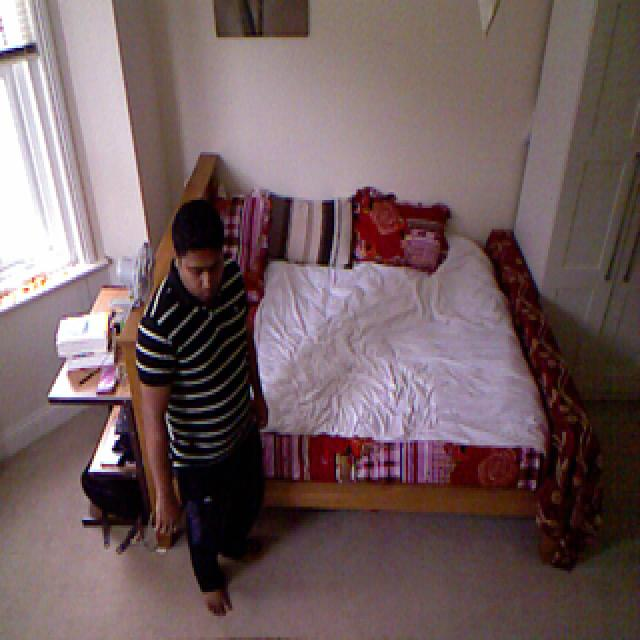standing: (134, 166, 268, 620)
